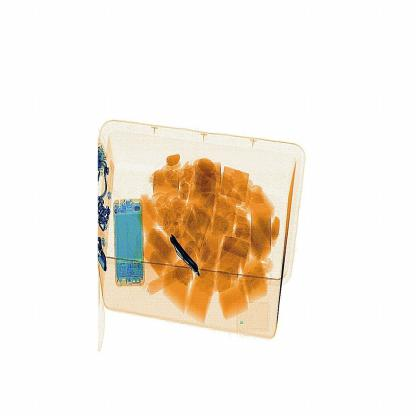knife: (166, 230, 207, 283)
